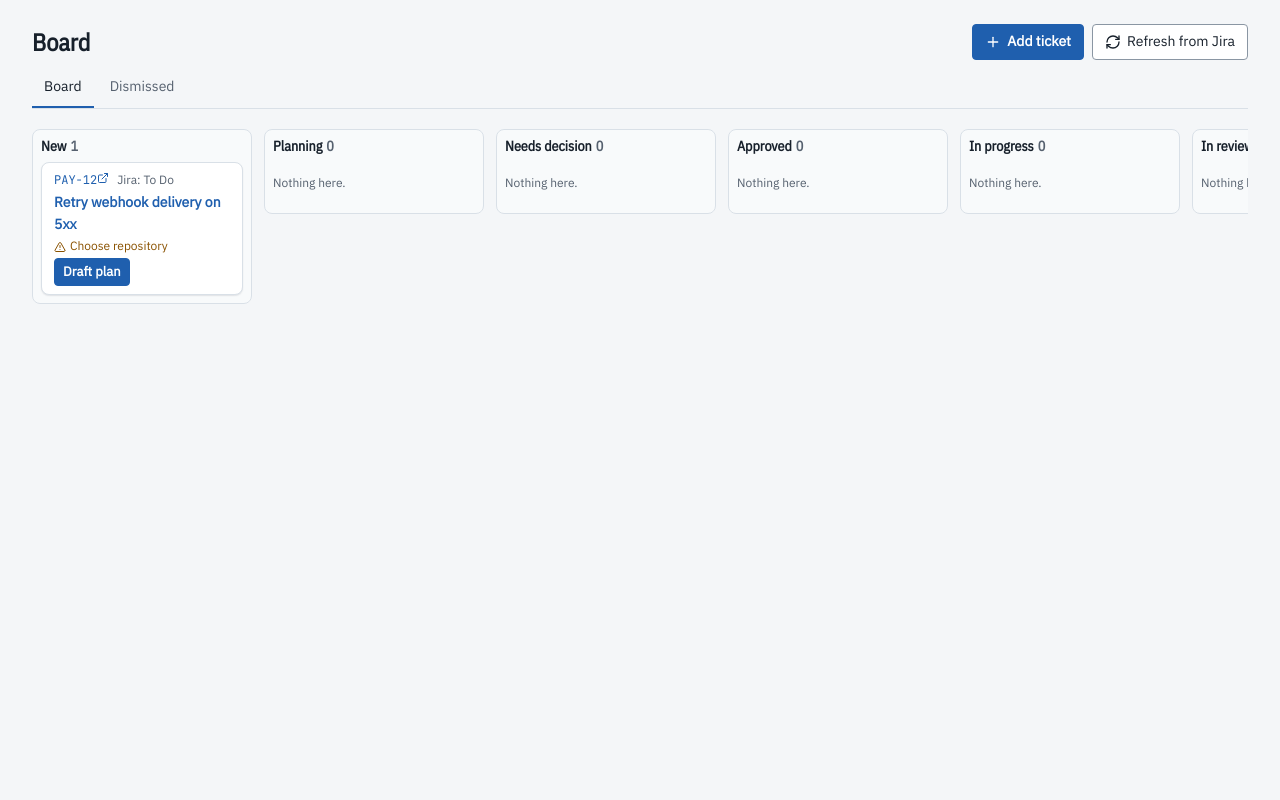
Test: Board › asks for a repository before drafting when the ticket has none
The image size is (1280, 800).
Click the button "Draft plan". click: (92, 272)
box: [54,258,130,286]
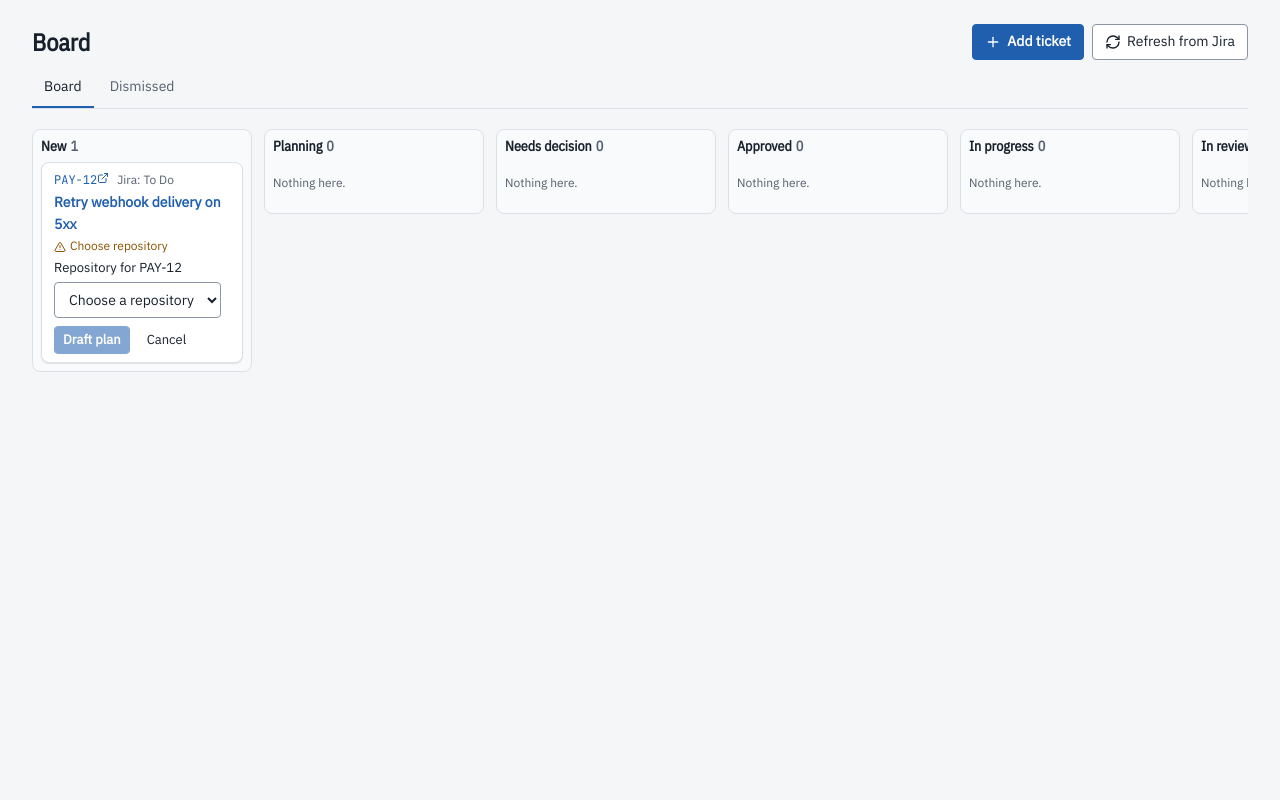
Select "payments" in the dropdown labelled "Repository for PAY-12". click: (138, 300)
box: [54,282,221,318]
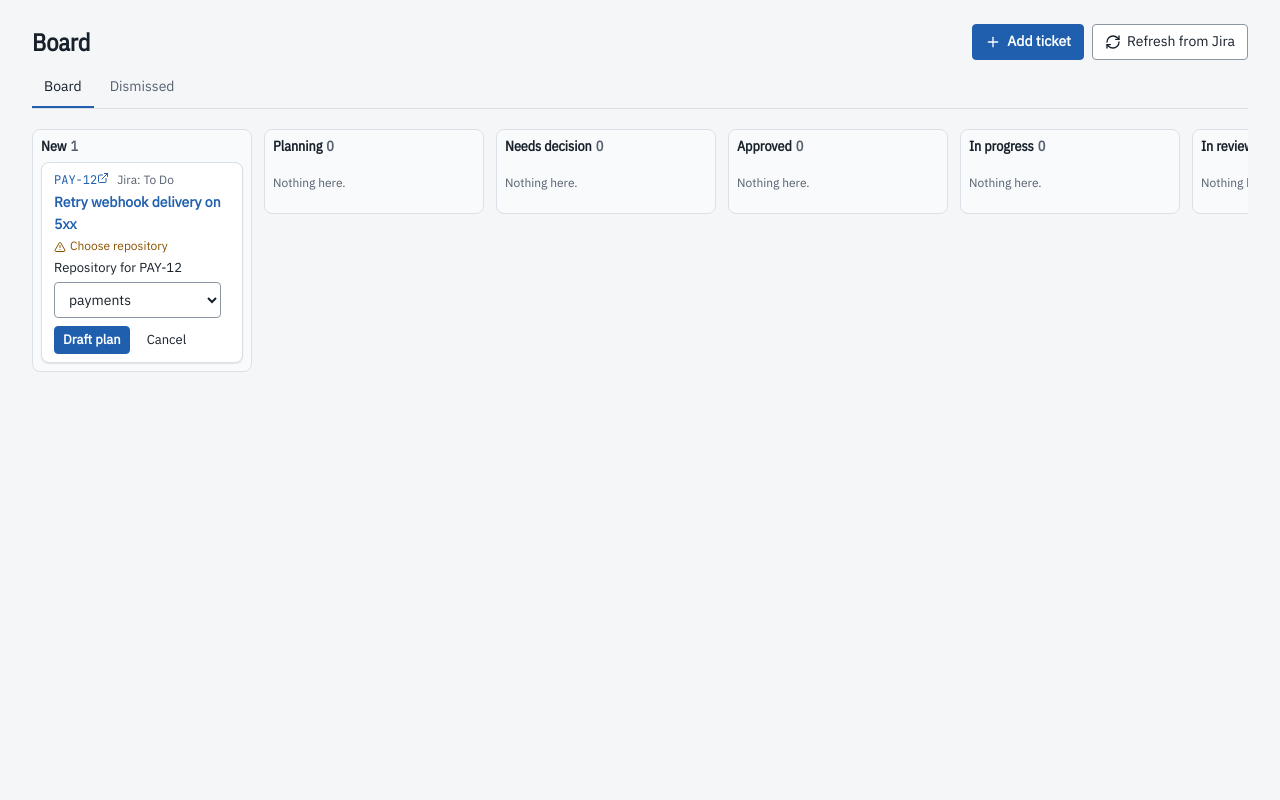
Click the button "Draft plan". click: (92, 340)
box: [54,326,130,354]
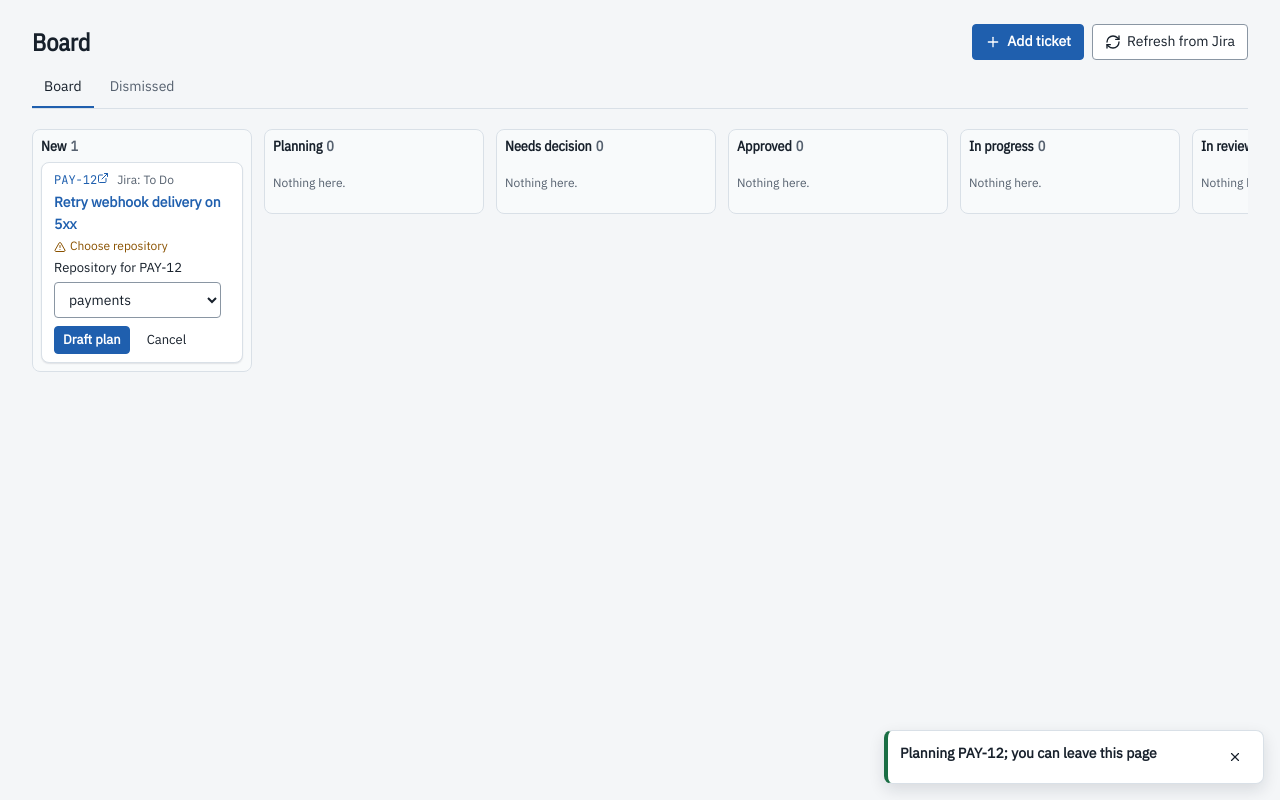
Check: the text "Planning PAY-12; you can leave this page" is shown, box [900,744,1157,762]
